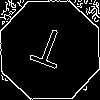T: (25, 25, 70, 78)
